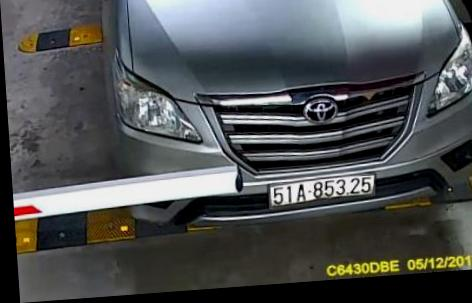License_Plate: (260, 166, 381, 213)
